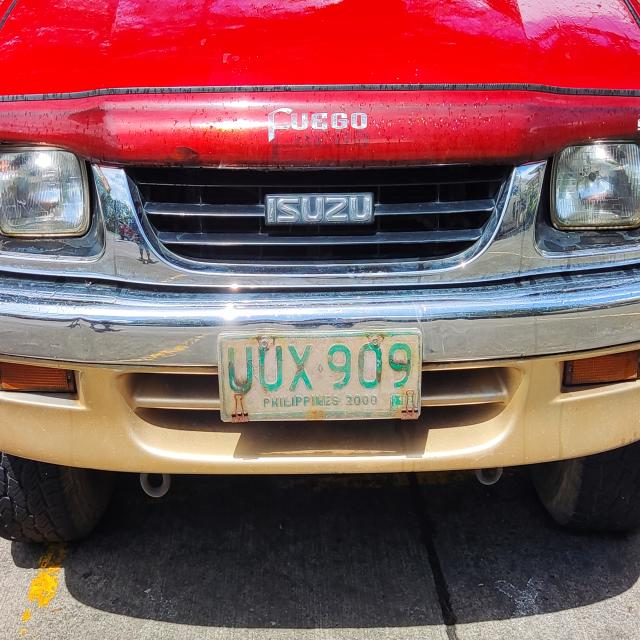plate: (215, 324, 424, 425)
